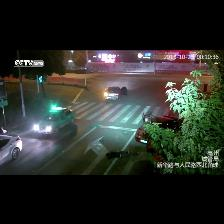person: (107, 152, 139, 159)
